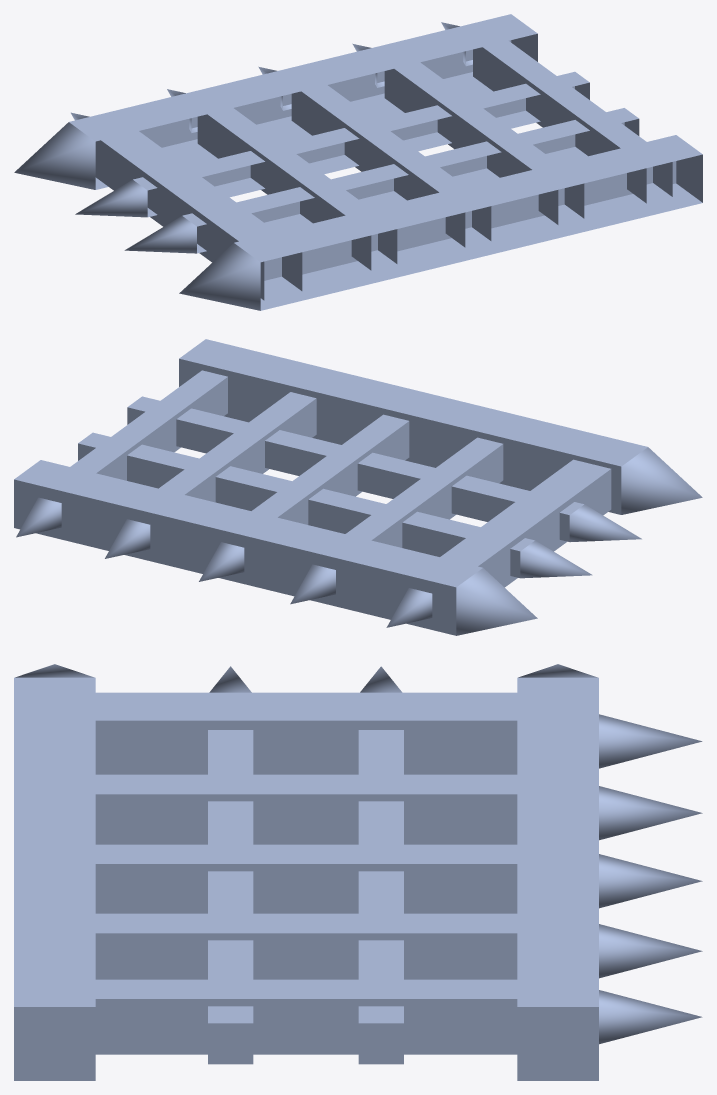
The picture shows the model from 3 angles, top to bottom: view 1: azimuth 30°, elevation 25°; view 2: azimuth 150°, elevation 25°; view 3: azimuth 270°, elevation 25°; orthographic projection. The views are drawn at different scales.
Visible parts, largest first — view 1: Object87; view 2: Object87; view 3: Object87.
Part boxes in pixels (x1=…): Object87: x1=14, y1=14, x2=702, y2=310; Object87: x1=14, y1=339, x2=702, y2=635; Object87: x1=14, y1=664, x2=702, y2=1080.
Bounding box in the file's own units: 40094 × 3643 × 30738.
